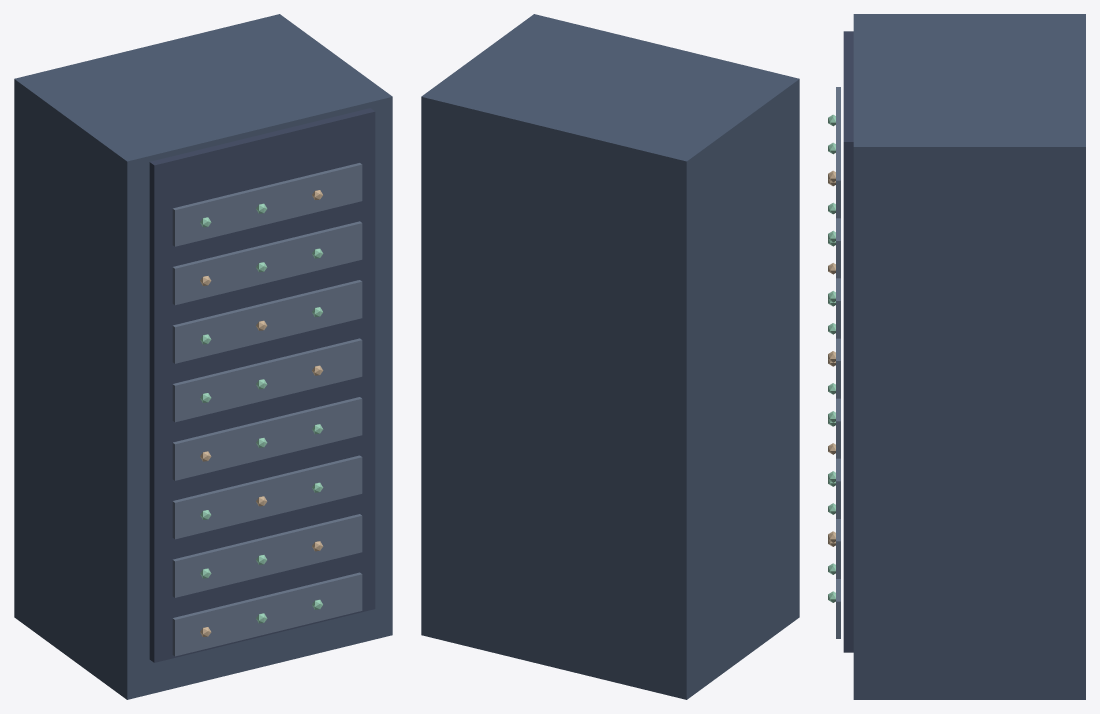
The model's file is server_rack.glb.
3 views of the same model, side by side, from view 1: azimuth 30°, elevation 25°; view 2: azimuth 150°, elevation 25°; view 3: azimuth 270°, elevation 25° (orthographic). The views are drawn at different scales.
Visible parts, largest first — view 1: world; view 2: world; view 3: world.
Part boxes in pixels (x1,y1,x2,y2): world: (14, 14, 392, 699); world: (421, 14, 799, 699); world: (828, 14, 1085, 699).
Bounding box in the file's own units: 0.95 × 1.84 × 0.7773.
